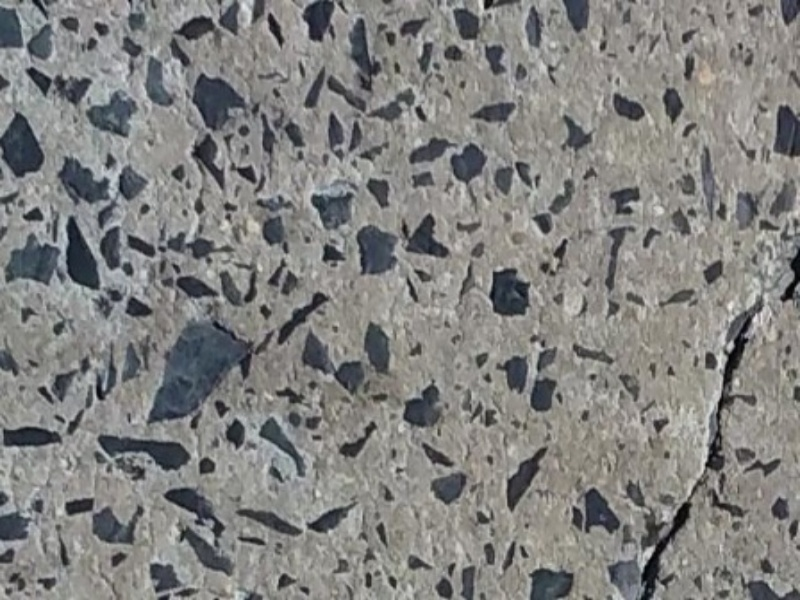crack: (640, 315, 760, 600)
